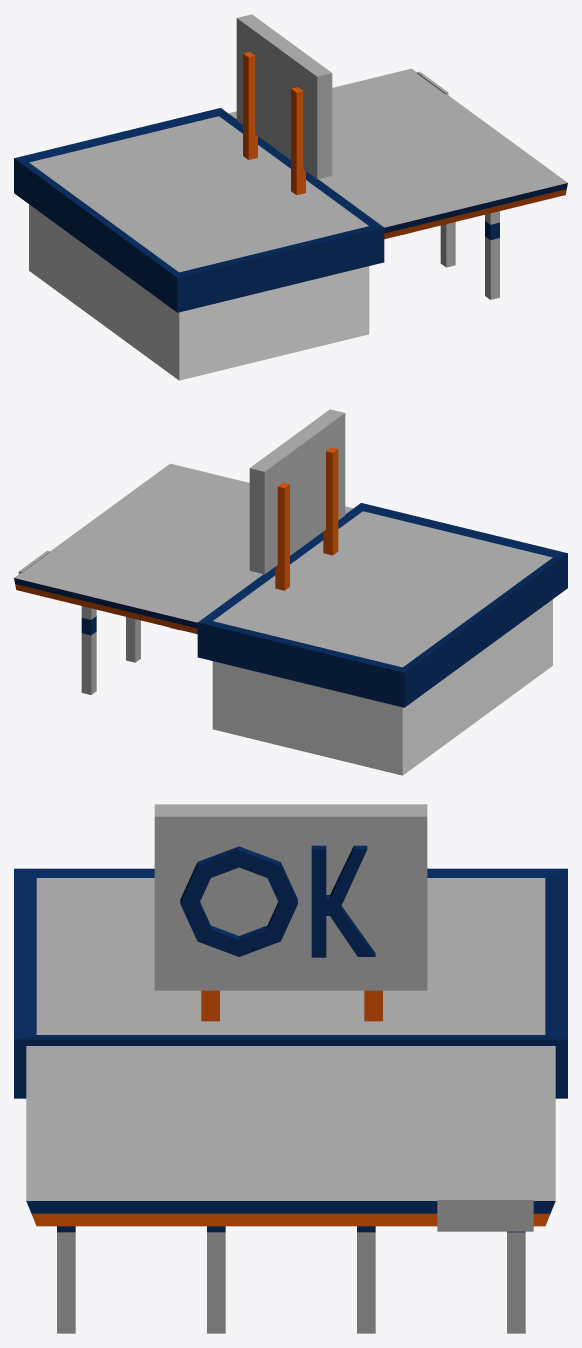
The model's file is OK_DeliveryPoint.fbx.
3 renders of one model, top to bottom at view 1: azimuth 30°, elevation 25°; view 2: azimuth 150°, elevation 25°; view 3: azimuth 270°, elevation 25°, orthographic. The views are drawn at different scales.
Parts seen in each view (by area): view 1: Cube.001; view 2: Cube.001; view 3: Cube.001.
Boxes of the visible parts, x1,y1,x2,y2 form: Cube.001: (14, 14, 567, 380); Cube.001: (14, 409, 567, 775); Cube.001: (14, 804, 567, 1333).
Size of the model in its own units: 807 by 463 by 578.
